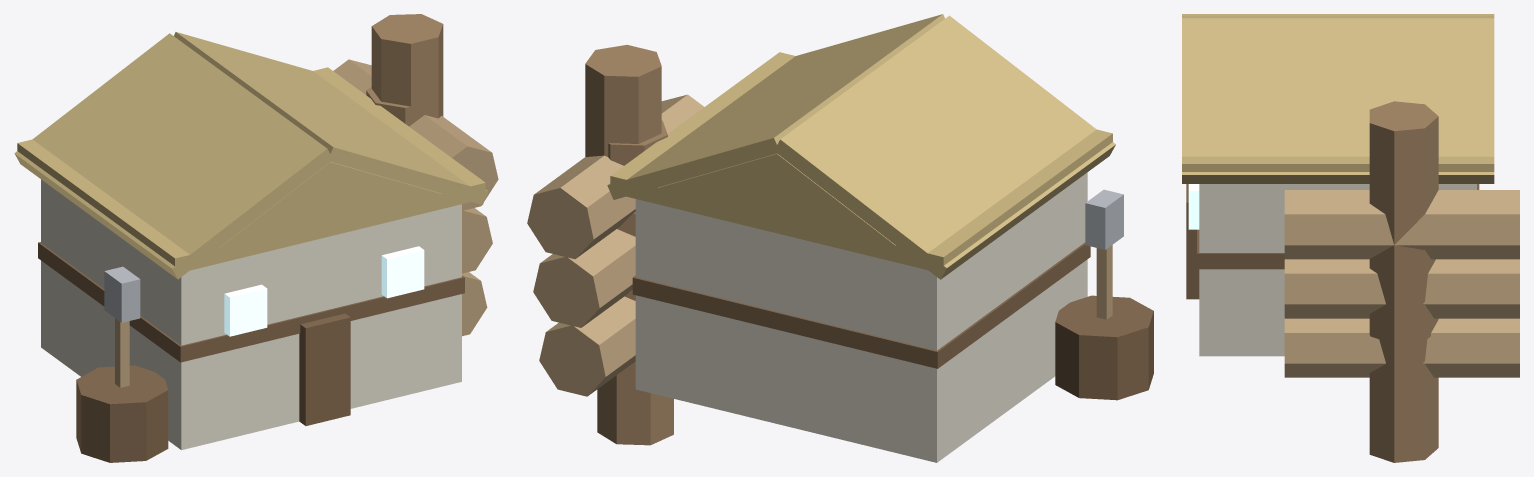
The model's file is woodcutter.glb.
3 renders of one model, left to right at view 1: azimuth 30°, elevation 25°; view 2: azimuth 150°, elevation 25°; view 3: azimuth 270°, elevation 25°, orthographic. The views are drawn at different scales.
Visible parts, largest first — view 1: WoodcutterWall; view 2: WoodcutterWall; view 3: WoodcutterWall.
Boxes of the visible parts, left/top/right/bottom form: WoodcutterWall: left=14, top=14, right=498, bottom=462; WoodcutterWall: left=527, top=14, right=1153, bottom=462; WoodcutterWall: left=1182, top=14, right=1519, bottom=462.
Size of the model in its own units: 2.35 by 1.78 by 1.58.
